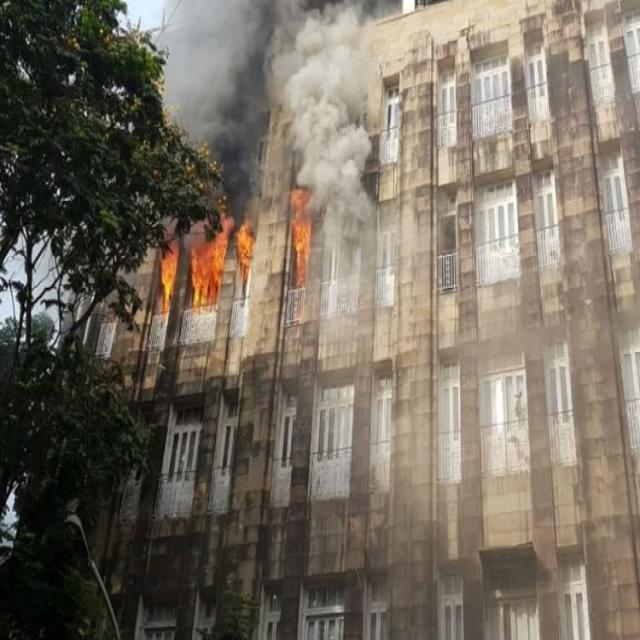Fire: (150, 198, 323, 320)
Smoke: (116, 0, 391, 196)
